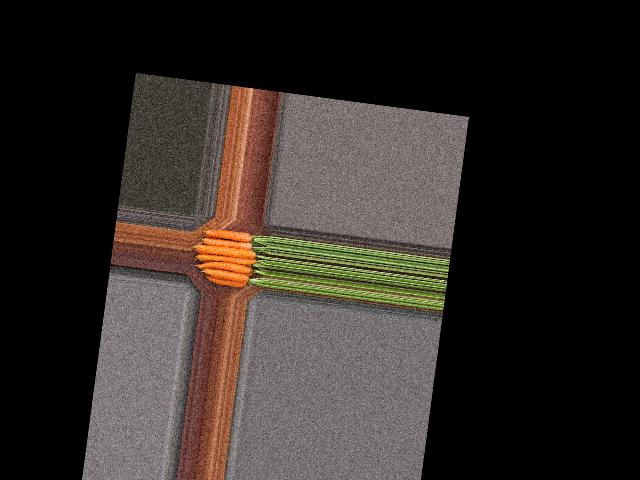carrot: (198, 273, 248, 292)
